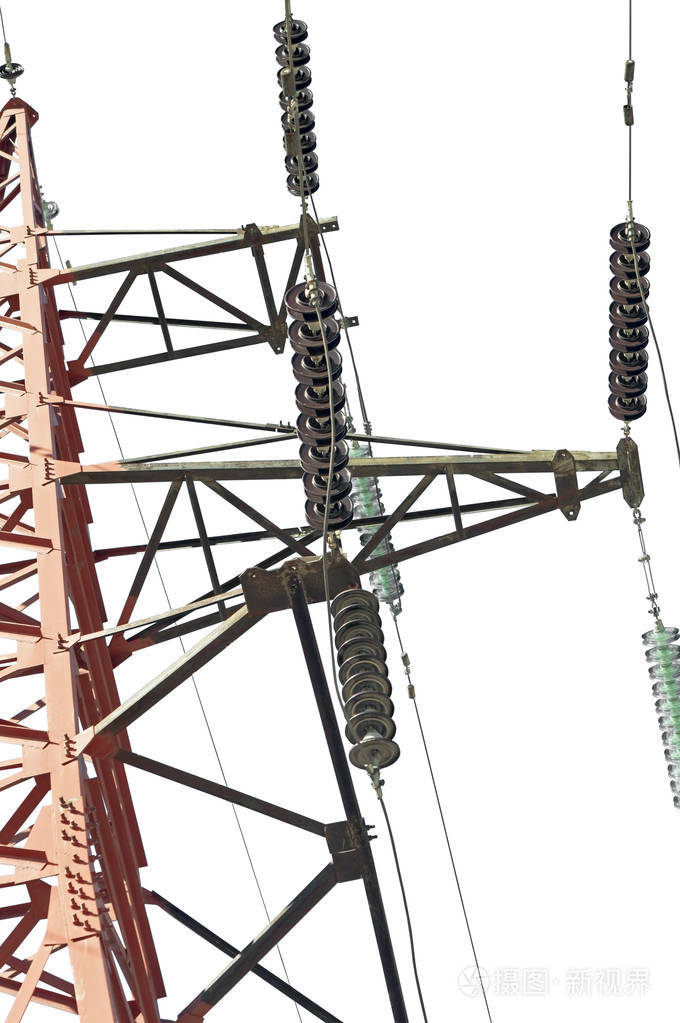insulator: (285, 281, 354, 533), (325, 589, 402, 772), (347, 444, 408, 601), (270, 20, 321, 198), (607, 221, 649, 422), (640, 624, 680, 811)
